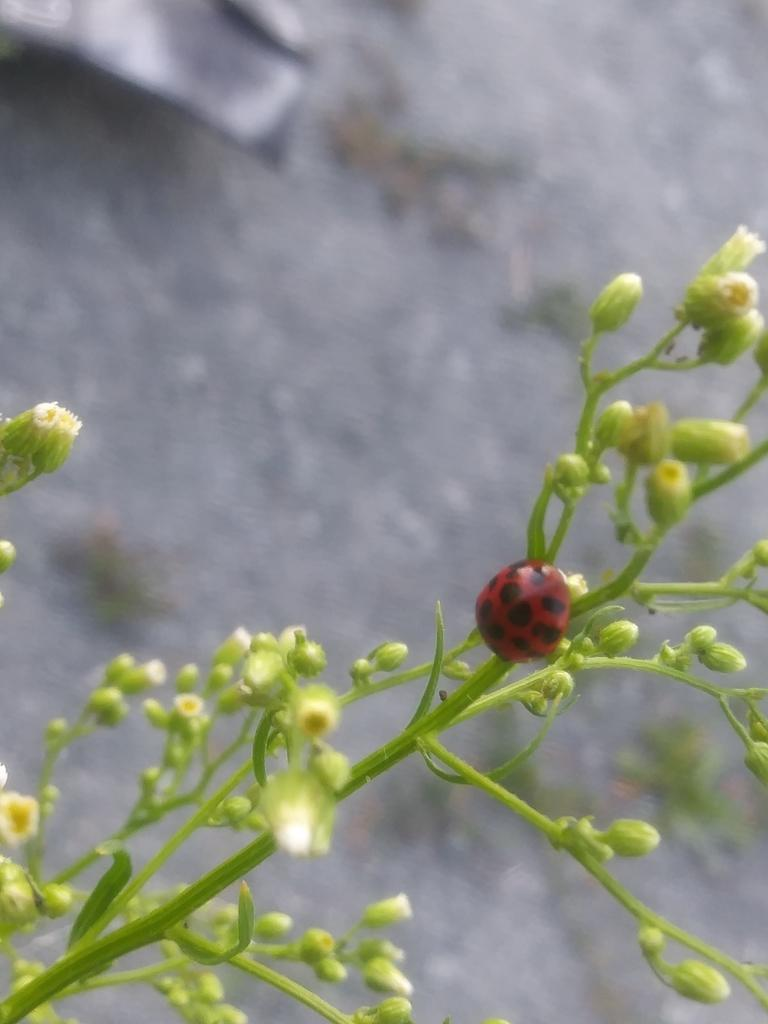ladybug: (474, 554, 579, 669)
